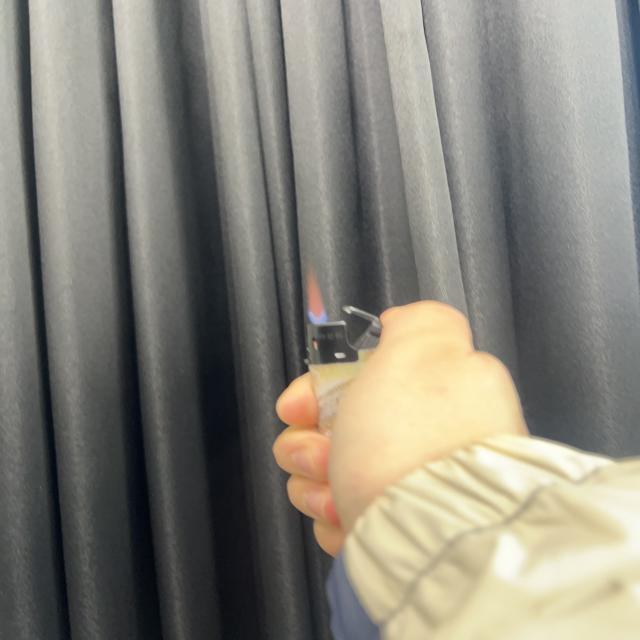fire: (306, 268, 328, 326)
